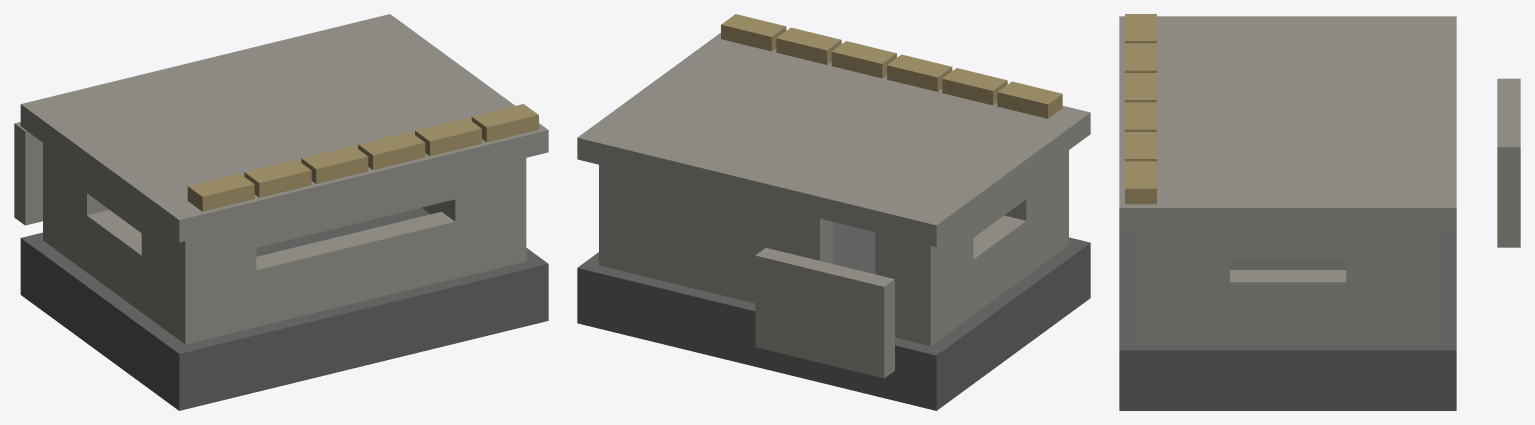
Rendered from bunker.glb.
The picture shows the model from 3 angles, left to right: view 1: azimuth 30°, elevation 25°; view 2: azimuth 150°, elevation 25°; view 3: azimuth 270°, elevation 25°; orthographic projection. The views are drawn at different scales.
Parts seen in each view (by area): view 1: bunker; view 2: bunker; view 3: bunker.
Boxes of the visible parts, x1,y1,x2,y2 form: bunker: (14,14,548,410); bunker: (577,14,1090,410); bunker: (1119,14,1520,410).
Size of the model in its own units: 7.8 by 4.15 by 6.9.
